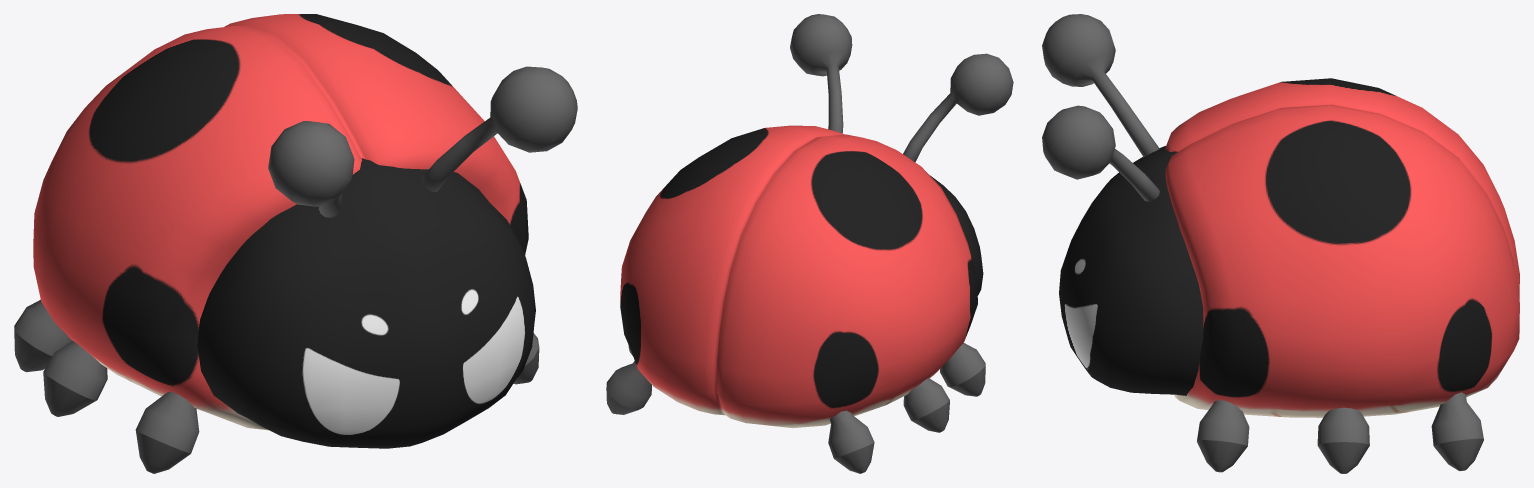
File: ladybug.fbx
3 views of the same model, side by side, from view 1: azimuth 30°, elevation 25°; view 2: azimuth 150°, elevation 25°; view 3: azimuth 270°, elevation 25° (orthographic). The views are drawn at different scales.
Parts seen in each view (by area): view 1: bd, hd, ant, lg; view 2: bd, ant, lg, hd; view 3: bd, hd, ant, lg.
Part boxes in pixels (bbox=[...]): bd: bbox=[33, 14, 528, 430]; hd: bbox=[197, 158, 535, 448]; ant: bbox=[268, 66, 577, 217]; lg: bbox=[14, 299, 539, 473]; bd: bbox=[620, 125, 977, 428]; ant: bbox=[790, 14, 1013, 162]; lg: bbox=[606, 342, 985, 473]; hd: bbox=[930, 175, 983, 295]; bd: bbox=[1165, 78, 1519, 417]; hd: bbox=[1059, 146, 1203, 395]; ant: bbox=[1042, 14, 1159, 201]; lg: bbox=[1197, 392, 1483, 473].
Size of the model in its own units: 115 by 100 by 129.
Materials: 3 (2 with a texture image).
